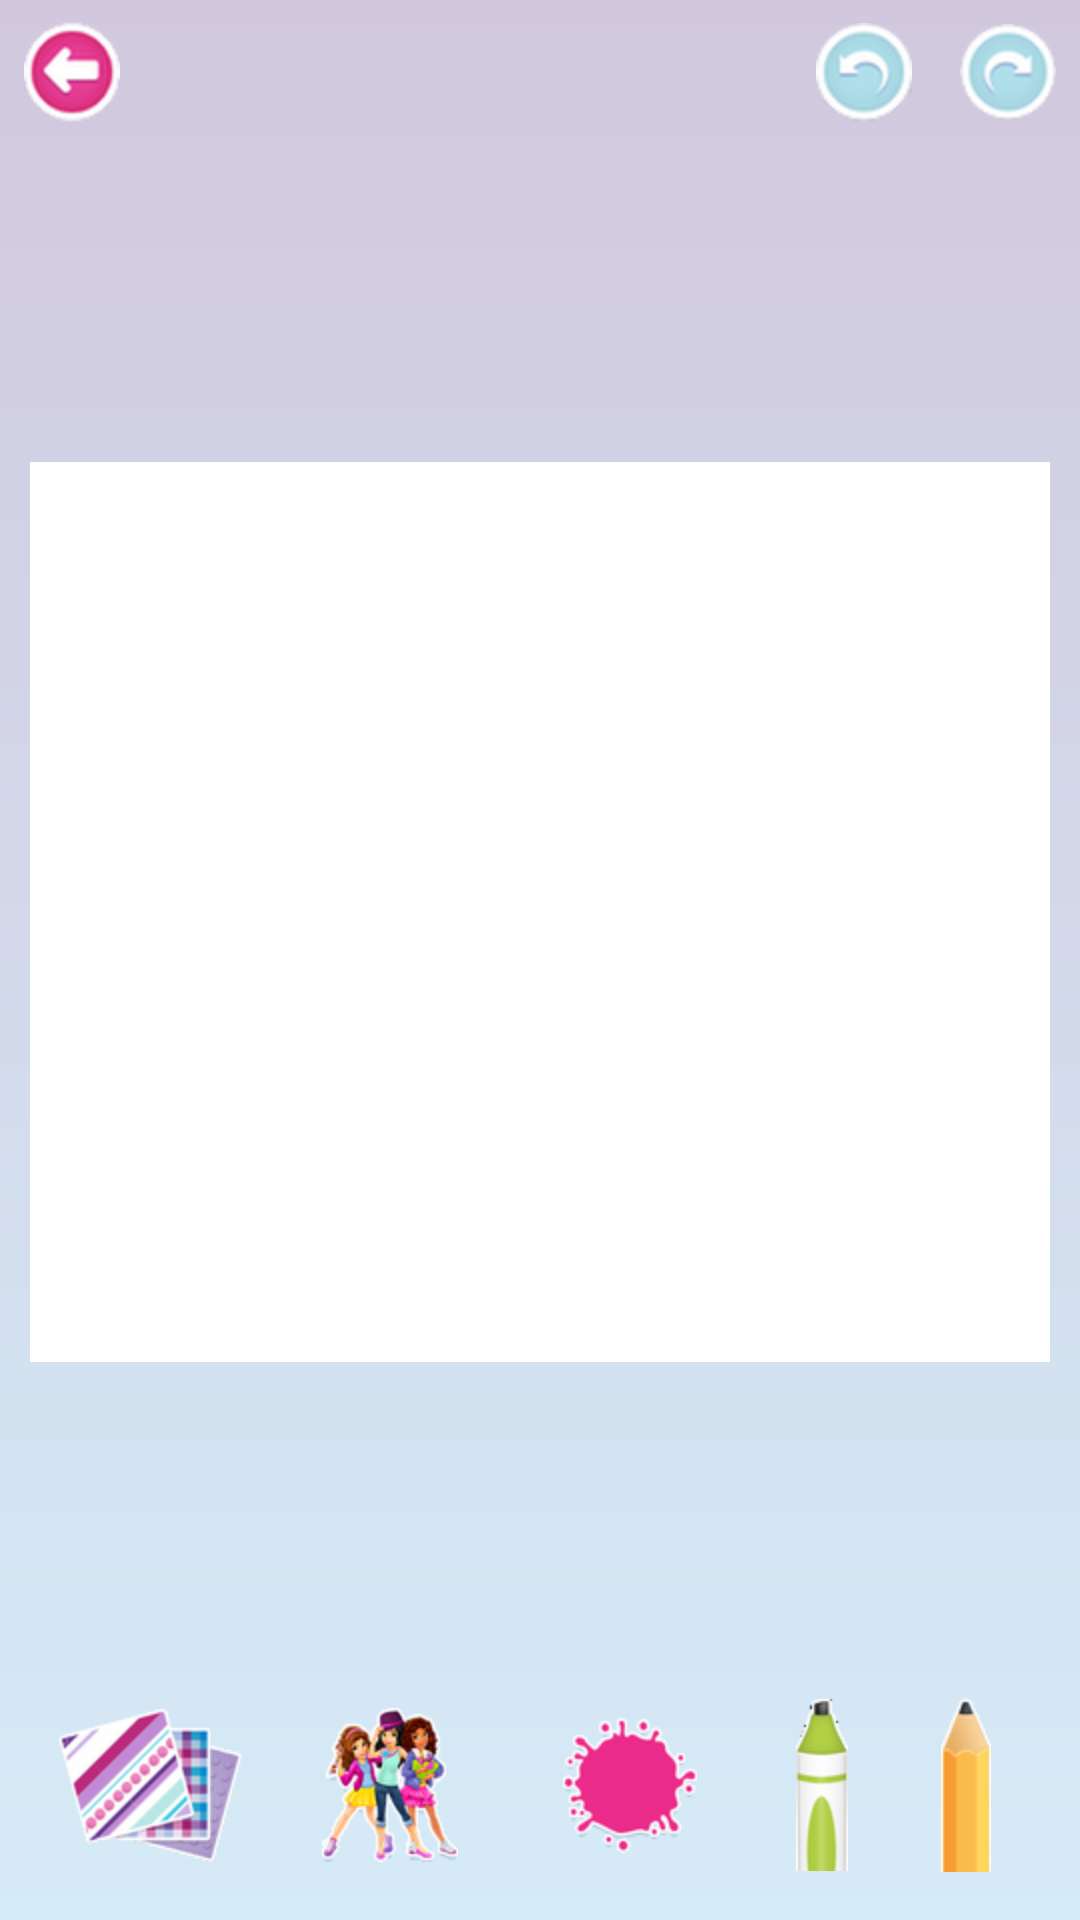

Icon bounding boxes for this 1080px×1920px phone screenshot, format Rect(x1, y1, x2, y2):
ab back: Rect(24, 23, 120, 121)
ab redo: Rect(961, 24, 1055, 118)
ab undo: Rect(816, 24, 912, 119)
pencil: Rect(941, 1700, 991, 1872)
